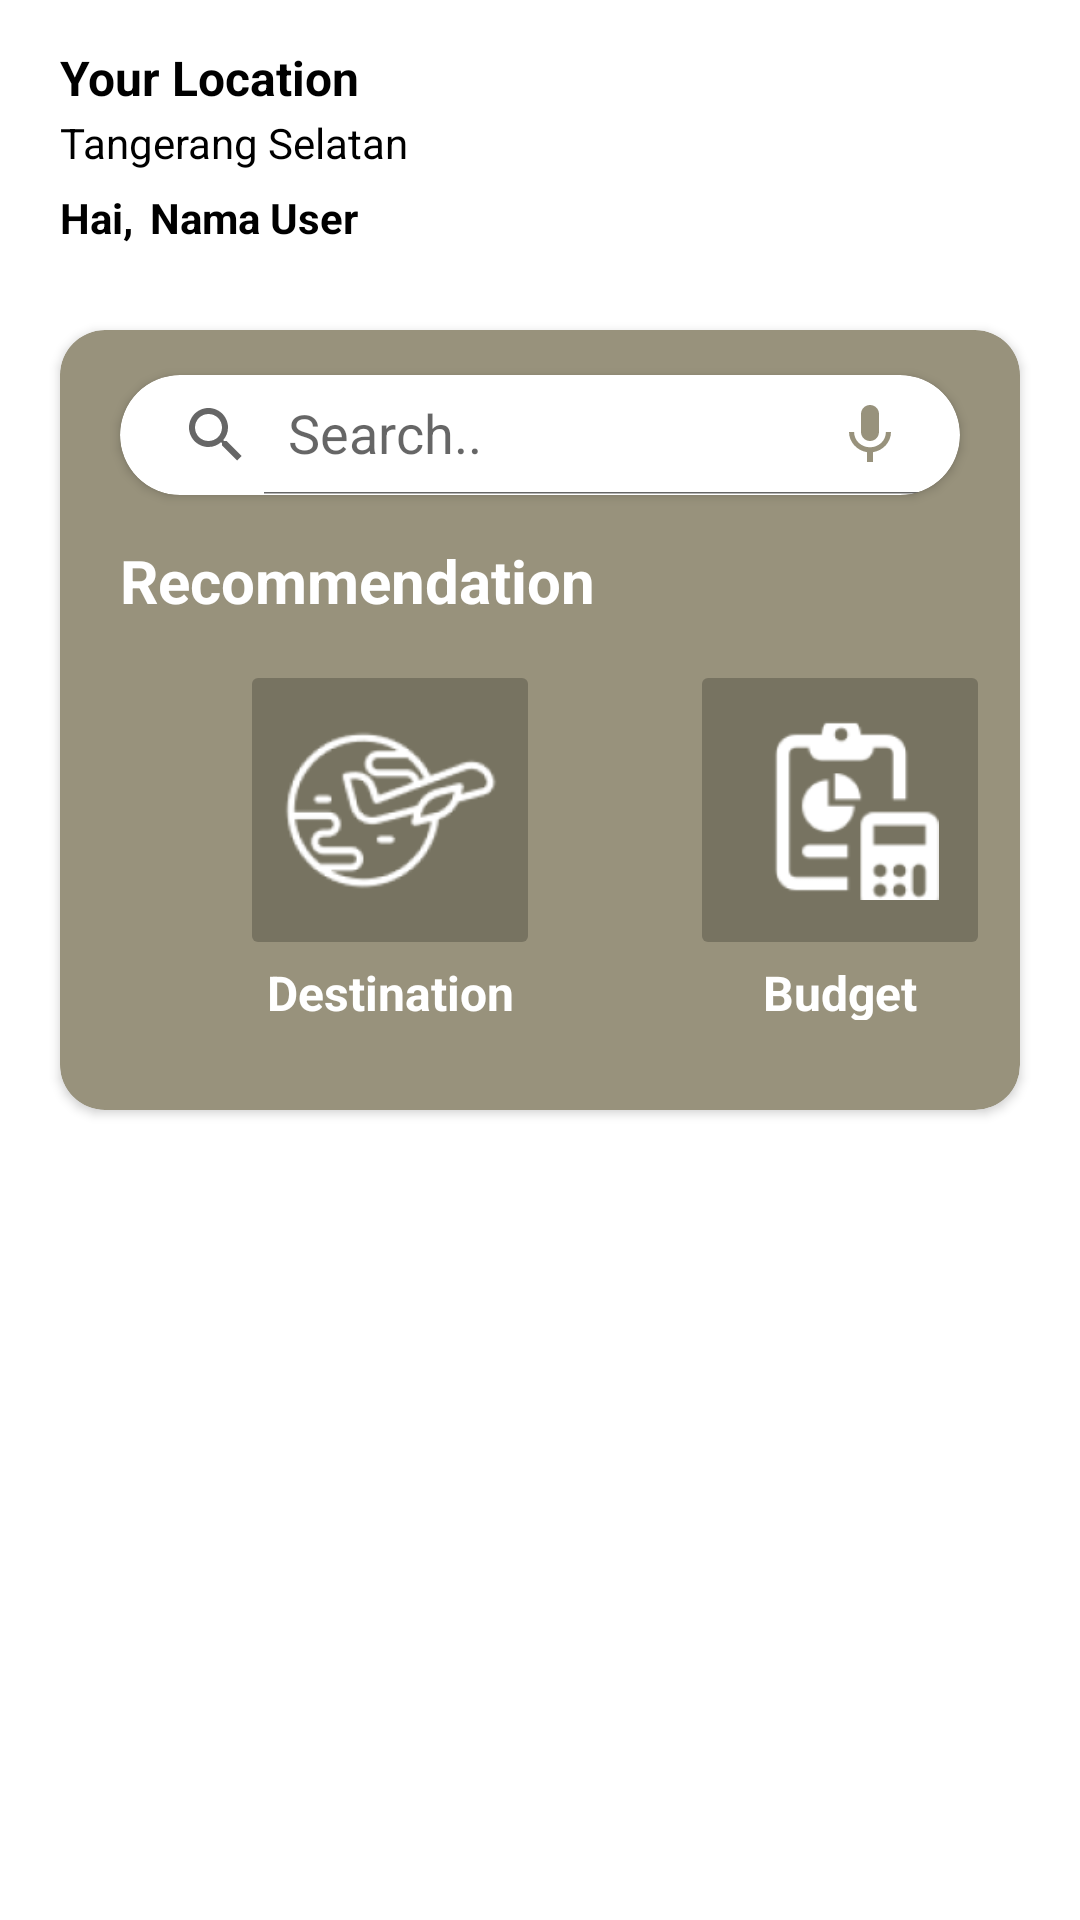

Icon click points for this 1080w x 1920h phone screenshot, format (x=x, y=y):
mic: (x=870, y=435)
